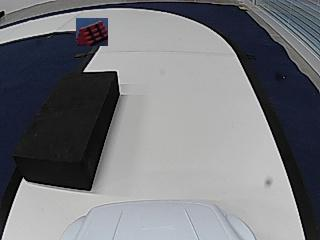block: (20, 69, 118, 189)
